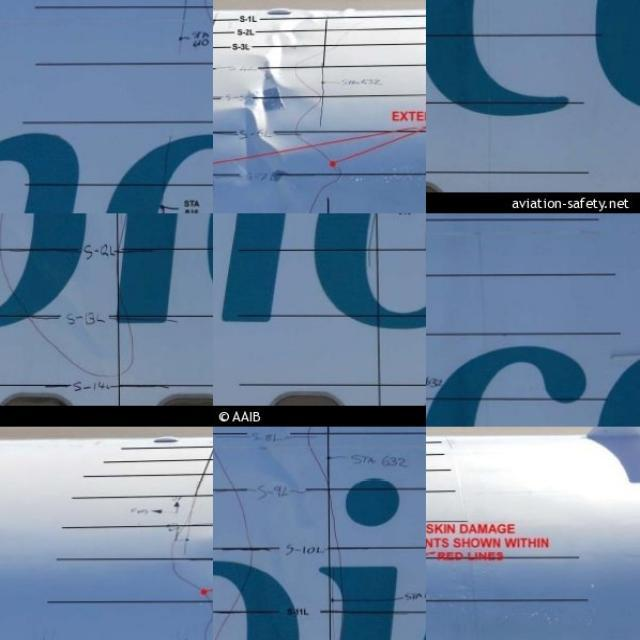dent: (213, 7, 321, 182)
